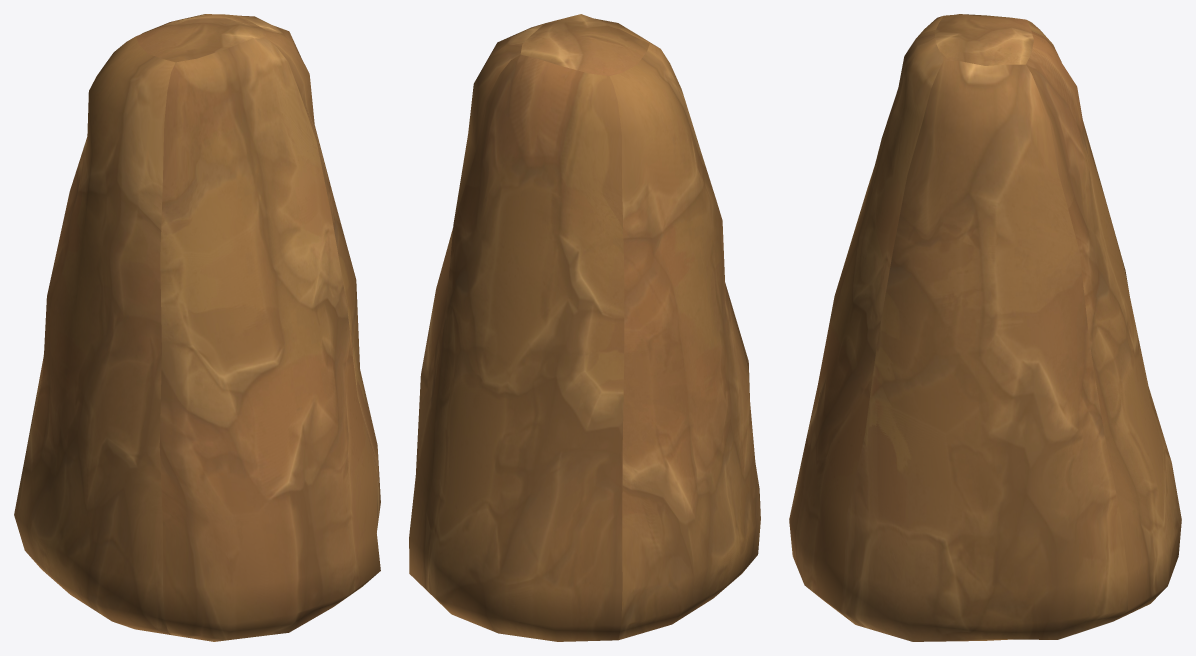
File: Lowest_islands4.fbx
3 views of the same model, side by side, from view 1: azimuth 30°, elevation 25°; view 2: azimuth 150°, elevation 25°; view 3: azimuth 270°, elevation 25° (orthographic). The views are drawn at different scales.
Parts seen in each view (by area): view 1: Cube.003; view 2: Cube.003; view 3: Cube.003.
Boxes of the visible parts, <box> form: Cube.003: <box>14,14,380,641</box>; Cube.003: <box>409,14,760,641</box>; Cube.003: <box>789,14,1181,641</box>.
Size of the model in its own units: 905 by 1632 by 997.
Materials: 1 (1 with a texture image).
